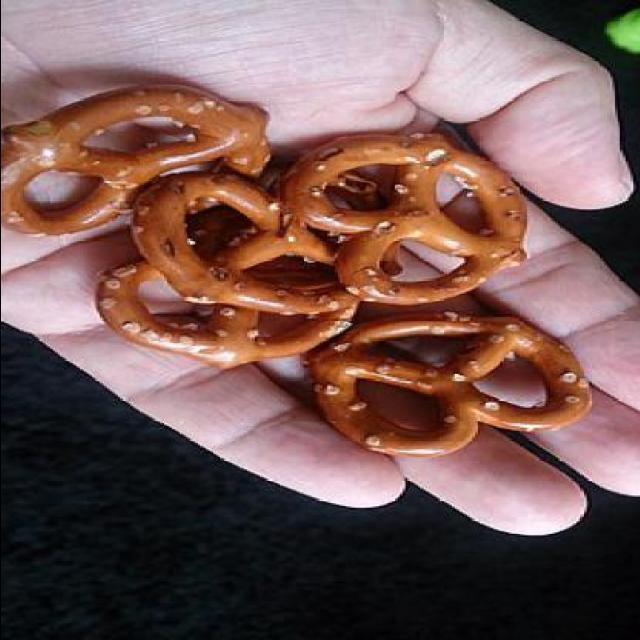Salatini packaged: (2, 84, 600, 460), (303, 308, 594, 457)
